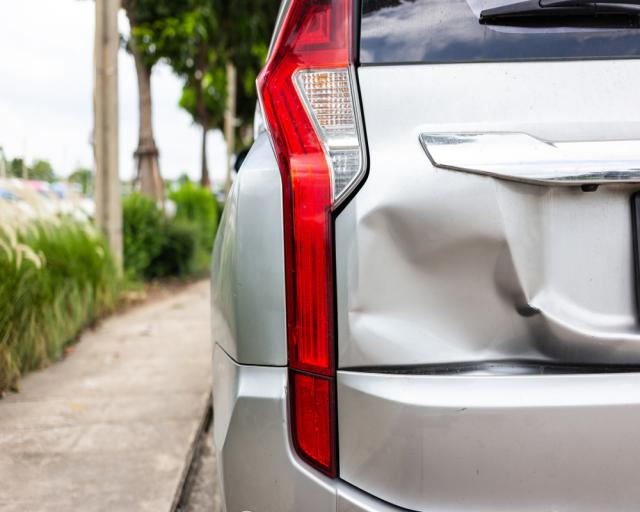dent: (348, 203, 555, 364)
